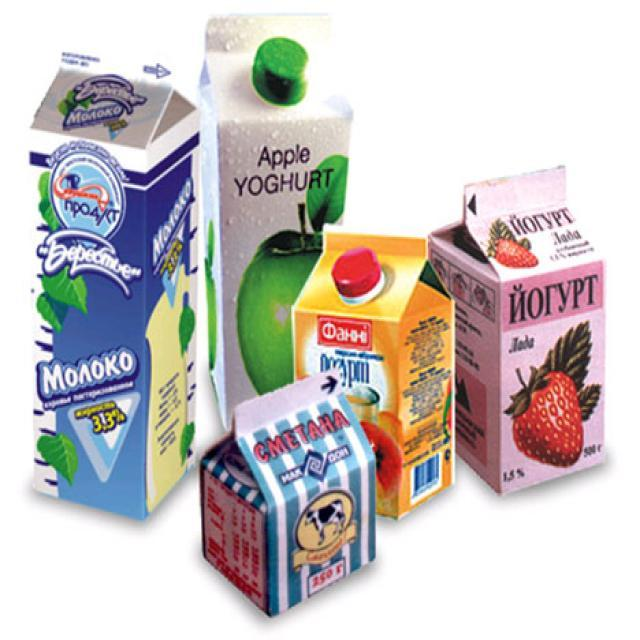Carton: (14, 22, 201, 528), (420, 145, 624, 535), (288, 206, 460, 540), (204, 362, 385, 619)
